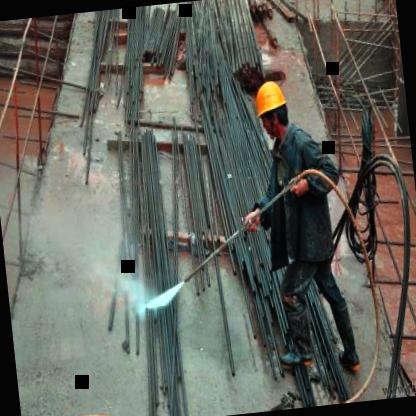helmet: (249, 74, 294, 145)
